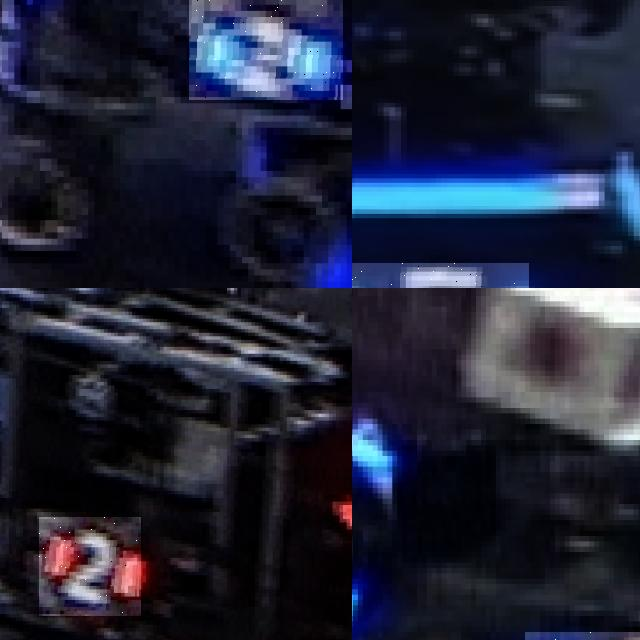B2: (189, 0, 343, 100)
B5: (352, 263, 529, 288)
R2: (39, 517, 141, 616)
